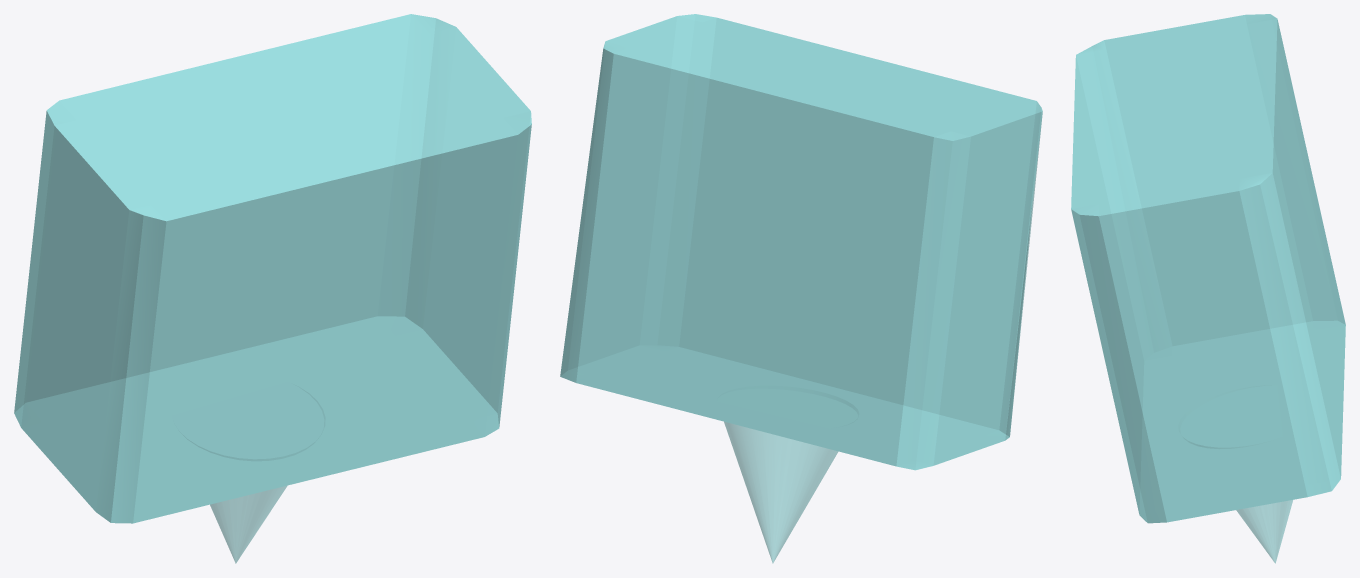
File: lazer hologram puzzle lock full combined hologram.fbx
3 views of the same model, side by side, from view 1: azimuth 30°, elevation 25°; view 2: azimuth 150°, elevation 25°; view 3: azimuth 270°, elevation 25° (orthographic). The views are drawn at different scales.
Visible parts, largest first — view 1: eeafc210-1cdc-4c6e-b6f5-1cf40b2ad462; view 2: eeafc210-1cdc-4c6e-b6f5-1cf40b2ad462; view 3: eeafc210-1cdc-4c6e-b6f5-1cf40b2ad462.
Part boxes in pixels (left/top/right/bottom): eeafc210-1cdc-4c6e-b6f5-1cf40b2ad462: left=14, top=14, right=531, bottom=563; eeafc210-1cdc-4c6e-b6f5-1cf40b2ad462: left=560, top=14, right=1042, bottom=563; eeafc210-1cdc-4c6e-b6f5-1cf40b2ad462: left=1071, top=14, right=1345, bottom=563.
Size of the model in its own units: 60780 by 73164 by 38821.
